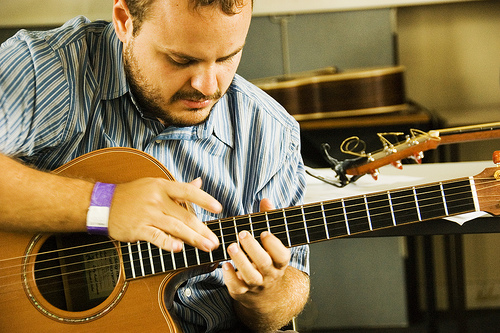guitar: (1, 145, 500, 333)
